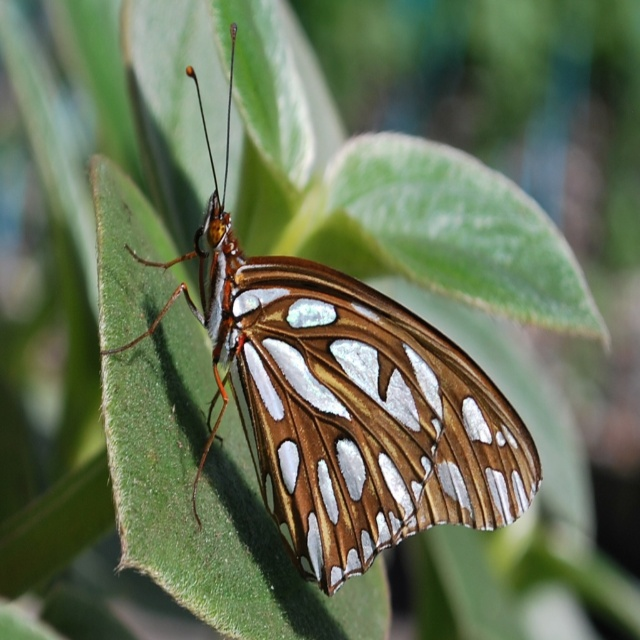Butterfly: (99, 42, 559, 615)
